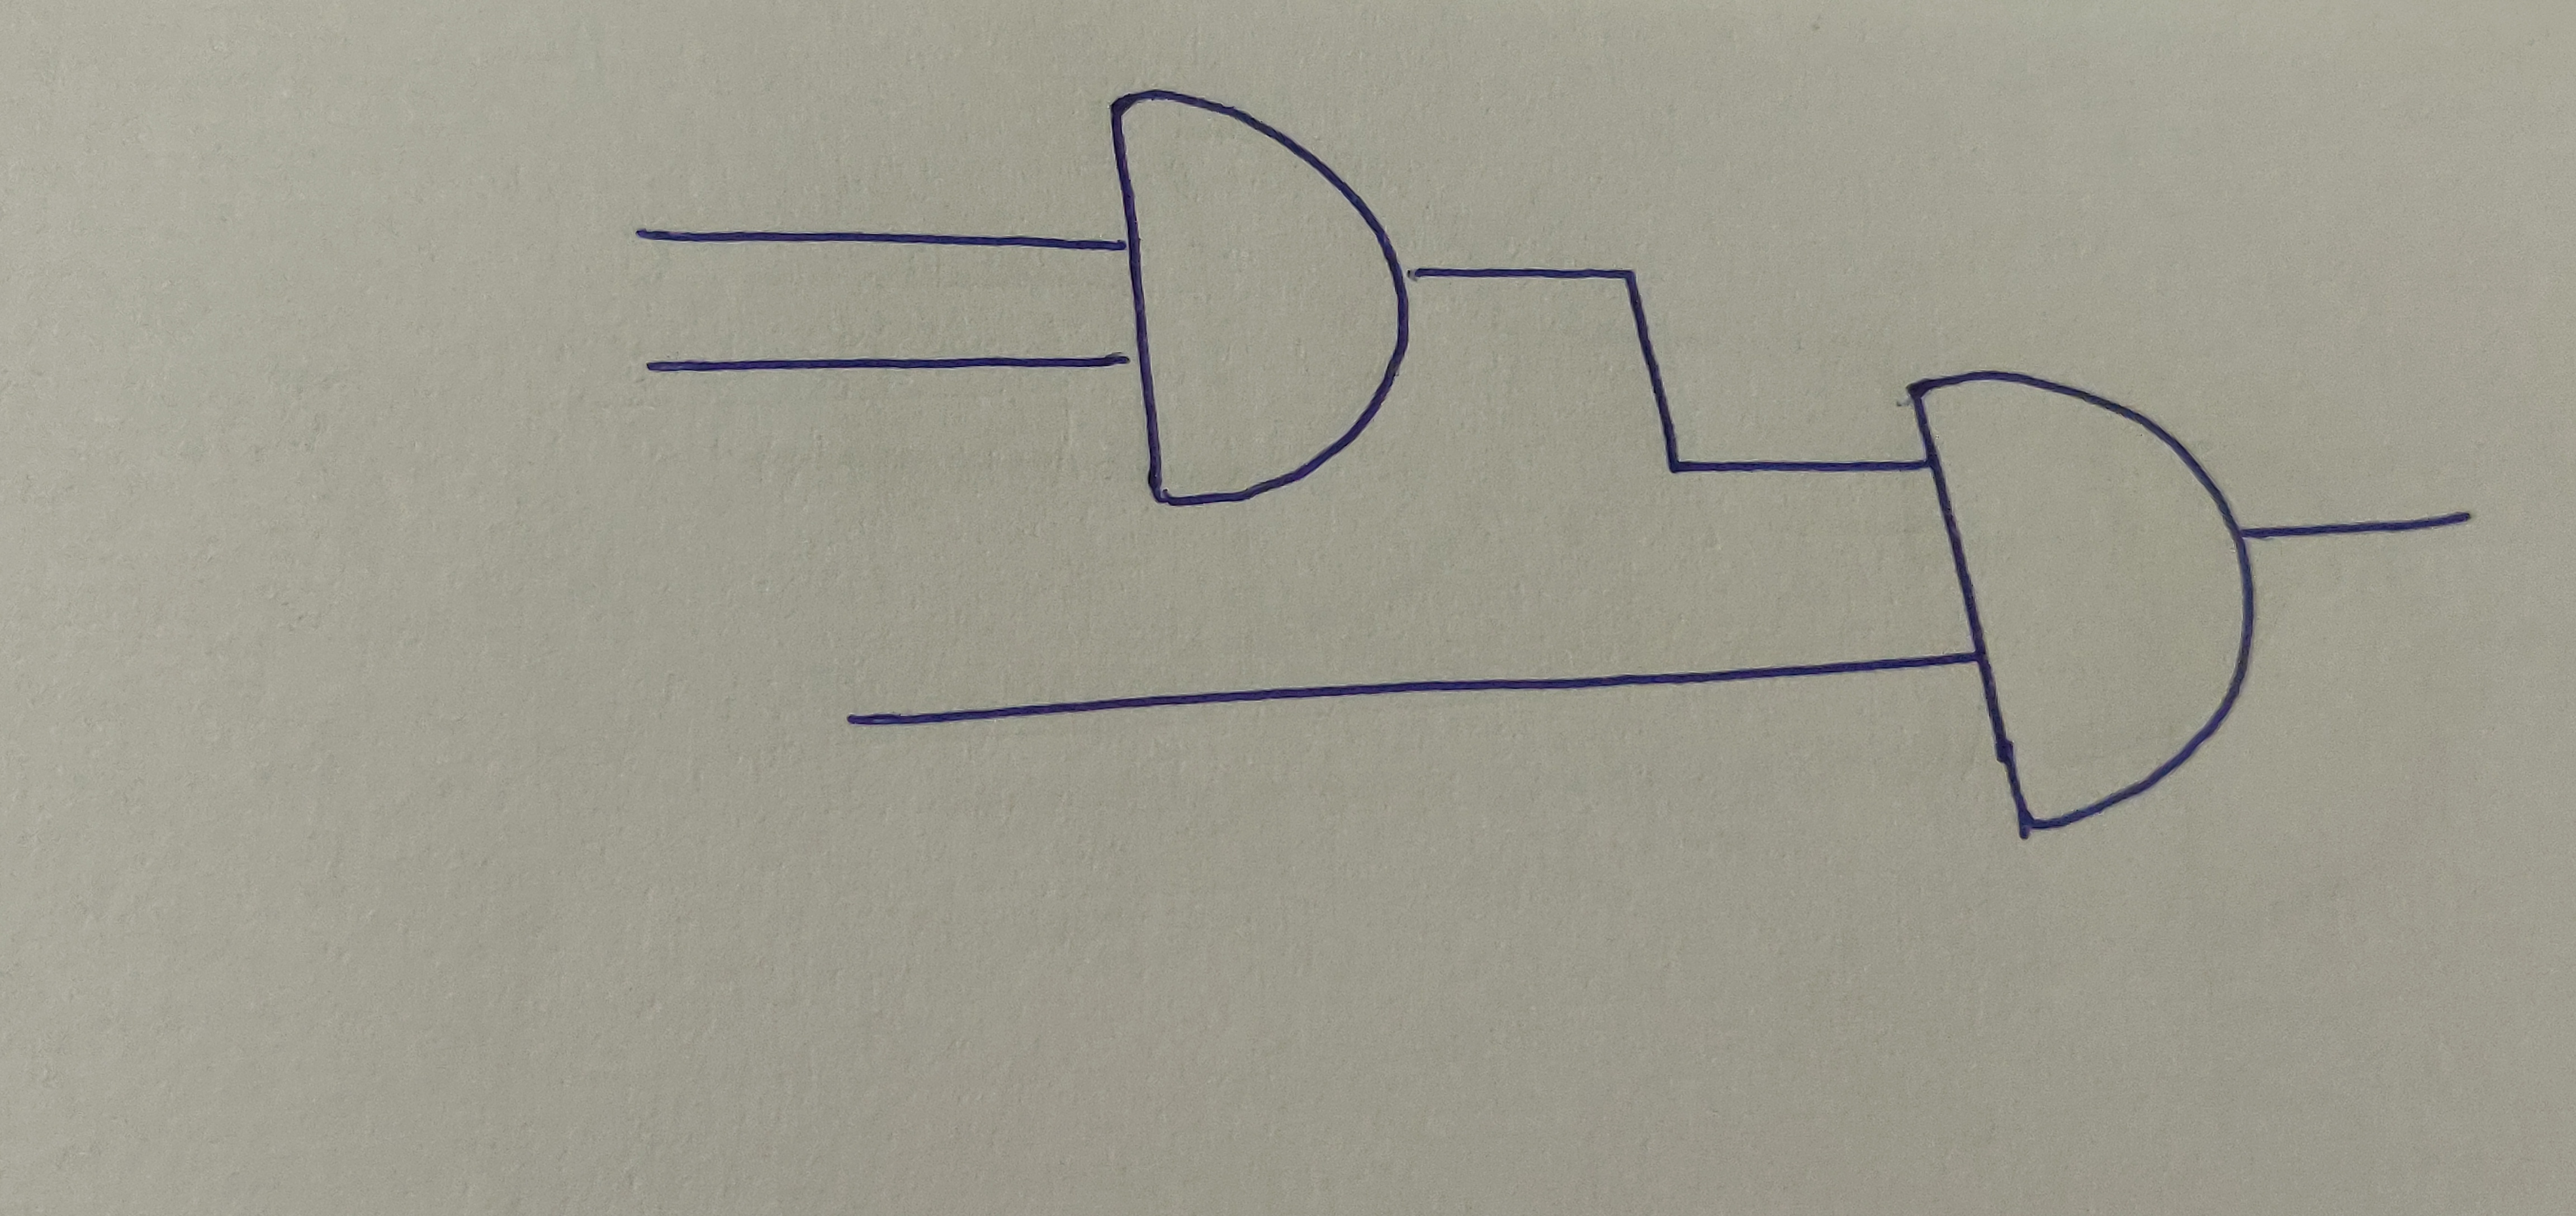and: (1904, 373, 2252, 830), (1096, 87, 1411, 506)
